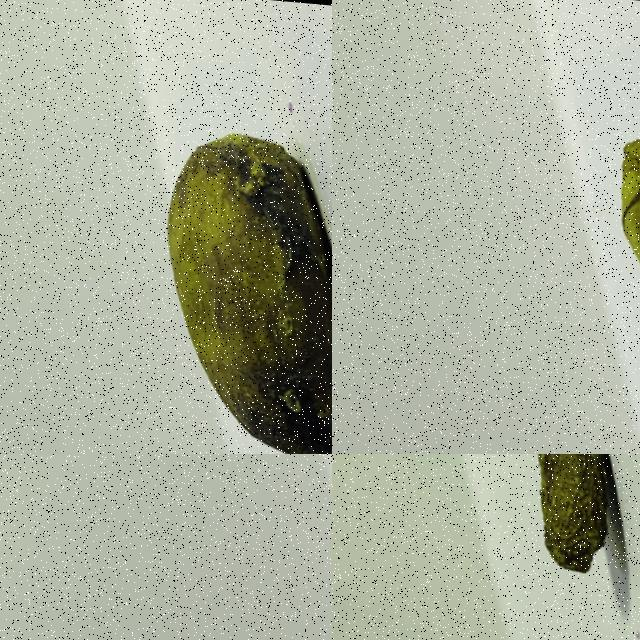Fine_cocoabeans: (116, 65, 331, 453)
Flat_cocoabeans: (409, 454, 639, 625), (555, 96, 639, 453)
